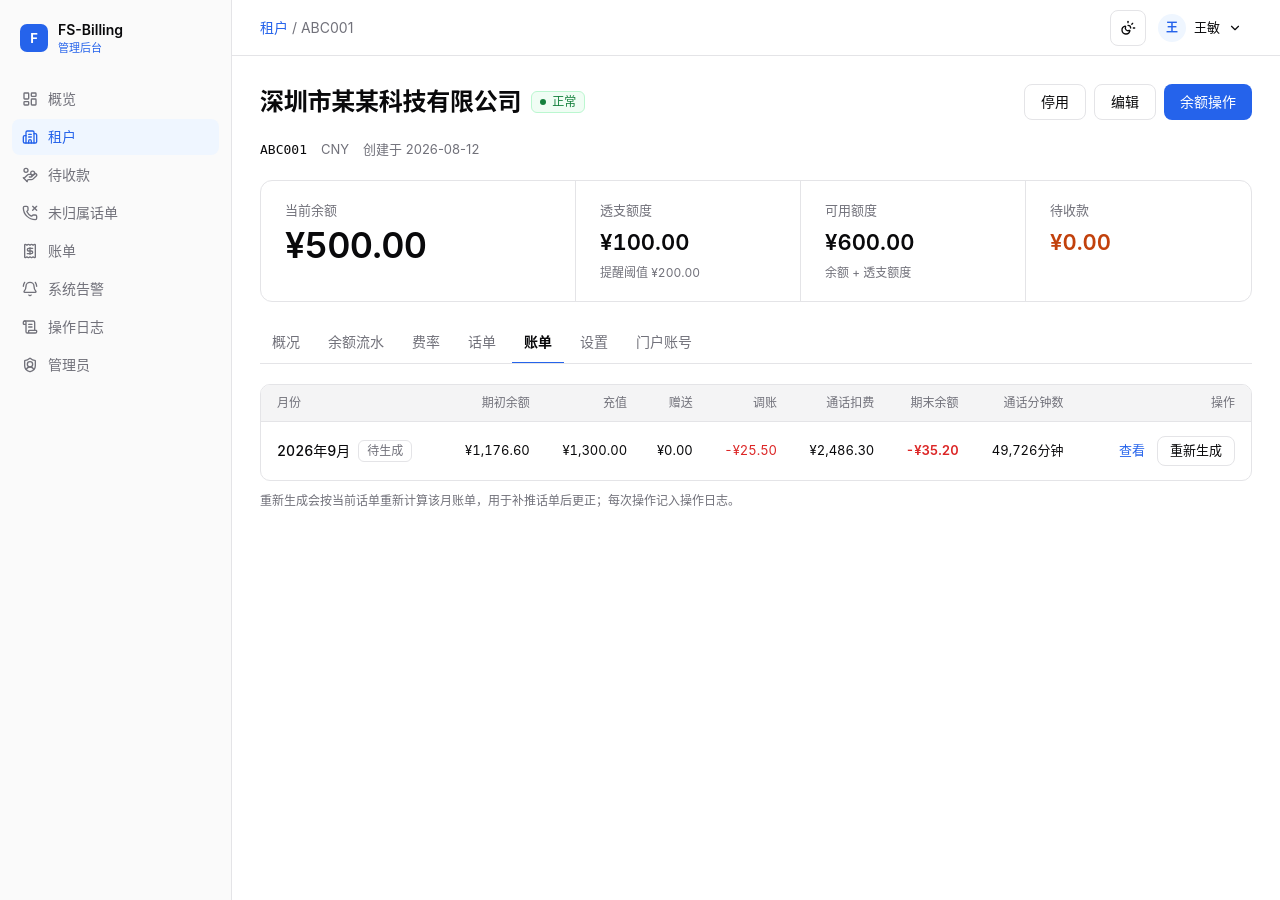
it: admin tenant statements list › shows live figures for a month not generated yet and lets it be created
Expected: the text "2026年9月" shows "待生成", [367,443,403,458]
Expected: the text "2026年9月" shows "-¥35.20", [906,442,959,458]
Click the button with aria-label "重新生成 2026年9月" at (1196, 451), box [1157,436,1235,466]
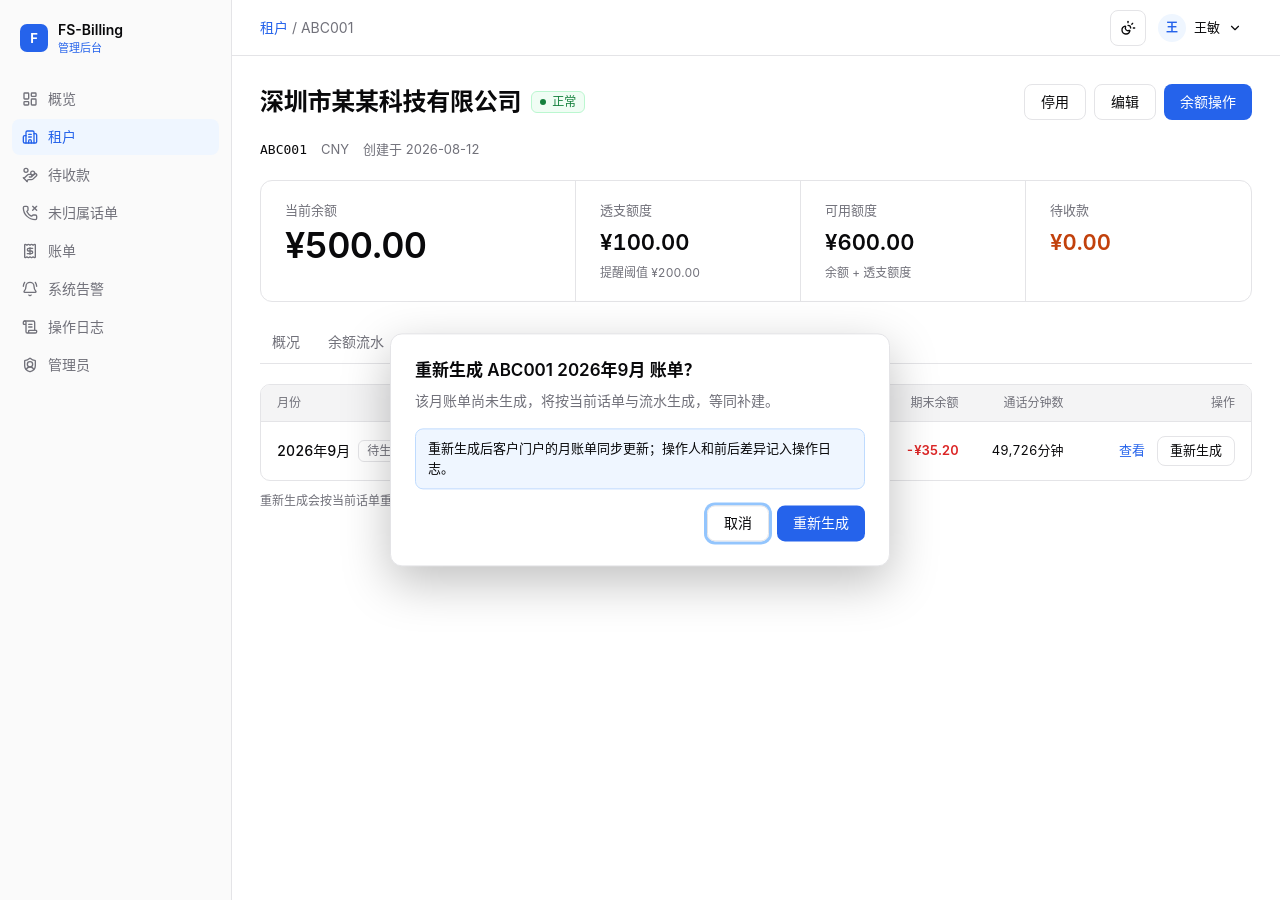
Expected: the dialog shows "该月账单尚未生成", [415,392,779,409]
Click the button "重新生成" at (821, 524), box [777,506,865,542]
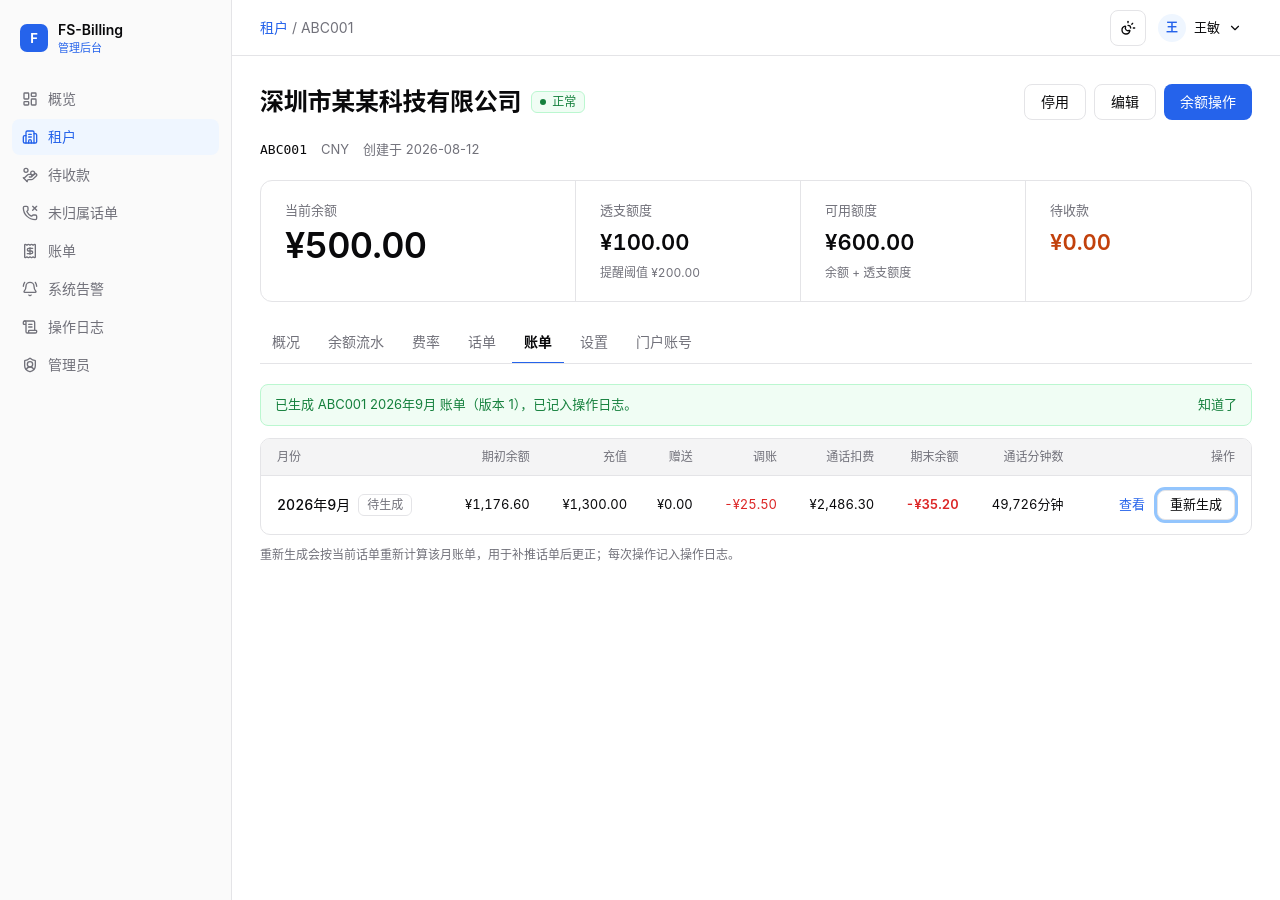
Expected: the message shows "已生成 ABC001 2026年9月 账单（版本 1）", [260,384,1252,426]
